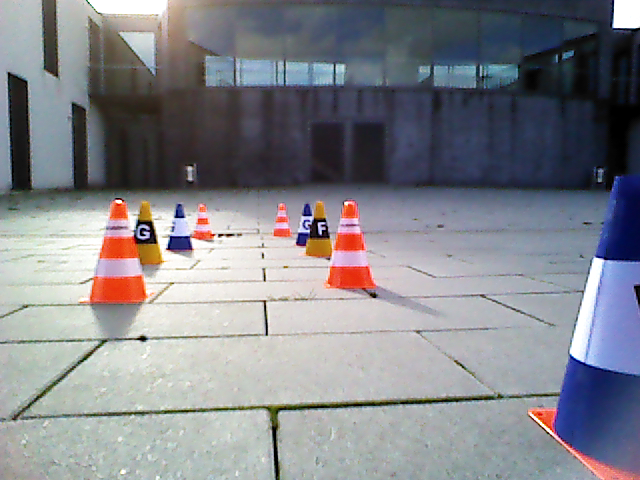bluecone: (169, 204, 194, 248), (295, 203, 309, 245)
orangeconesmall: (91, 198, 145, 300), (329, 200, 372, 286), (196, 203, 213, 237), (274, 202, 290, 236)
yellowcone: (137, 201, 162, 264), (307, 200, 331, 255)
